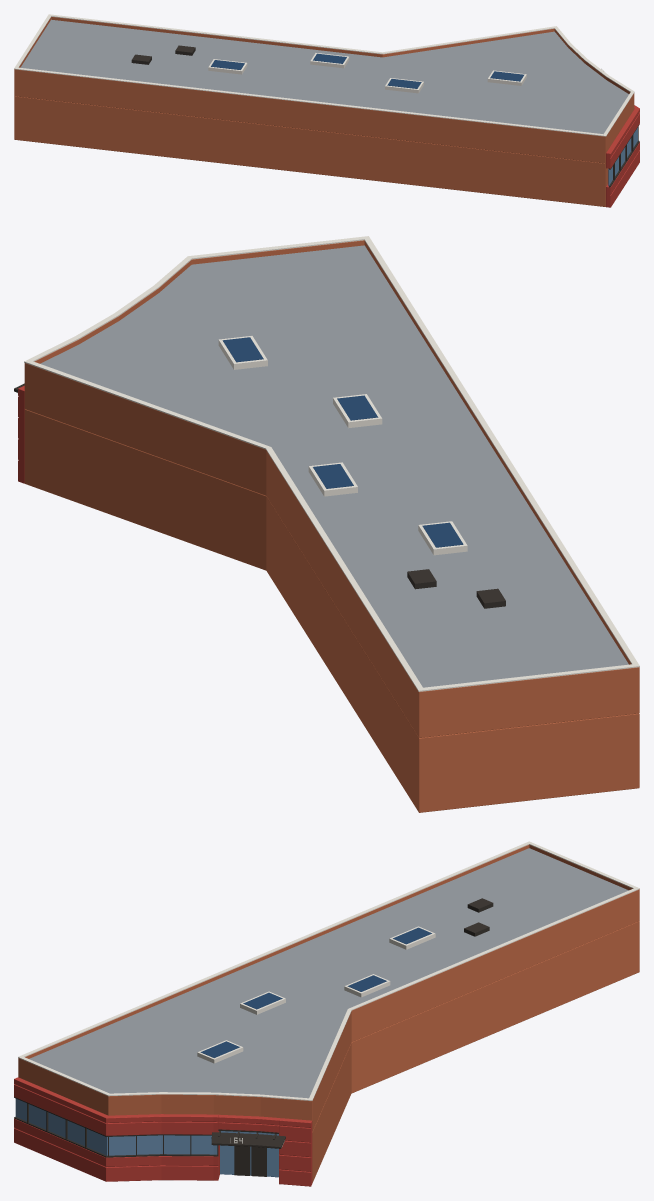
Rendered from 164-south-park.glb.
3 views of the same model, one above another, from view 1: azimuth 30°, elevation 25°; view 2: azimuth 150°, elevation 25°; view 3: azimuth 270°, elevation 25° (orthographic). The views are drawn at different scales.
Parts seen in each view (by area): view 1: roof_deck, body, body_upper, parapet, coping, screen_high, screen_low, ribbon_glow; view 2: roof_deck, body, body_upper, coping, parapet; view 3: roof_deck, body, body_upper, parapet, screen_low, coping, screen_high, ribbon_glow, screen_pier, entry_glow, canopy, screen_lintel (+2 smaller).
Part boxes in pixels (bbox=[...]): roof_deck: bbox=[20, 19, 628, 134]; body: bbox=[14, 96, 608, 206]; body_upper: bbox=[14, 73, 634, 163]; parapet: bbox=[14, 17, 634, 139]; coping: bbox=[14, 14, 634, 136]; screen_high: bbox=[606, 105, 639, 168]; screen_low: bbox=[606, 142, 639, 207]; ribbon_glow: bbox=[608, 127, 637, 185]; roof_deck: bbox=[40, 245, 628, 687]; body: bbox=[24, 409, 639, 812]; body_upper: bbox=[24, 369, 639, 737]; coping: bbox=[24, 236, 639, 691]; parapet: bbox=[24, 240, 639, 697]; roof_deck: bbox=[29, 848, 628, 1098]; body: bbox=[312, 921, 639, 1182]; body_upper: bbox=[18, 893, 639, 1131]; parapet: bbox=[18, 844, 639, 1105]; screen_low: bbox=[14, 1118, 218, 1181]; coping: bbox=[18, 841, 639, 1100]; screen_high: bbox=[14, 1077, 218, 1135]; ribbon_glow: bbox=[15, 1098, 217, 1155]; screen_pier: bbox=[279, 1118, 312, 1186]; entry_glow: bbox=[220, 1131, 278, 1177]; canopy: bbox=[211, 1132, 285, 1148]; screen_lintel: bbox=[218, 1114, 279, 1132].
Size of the model in its own units: 37.24 by 5.4 by 36.47.
